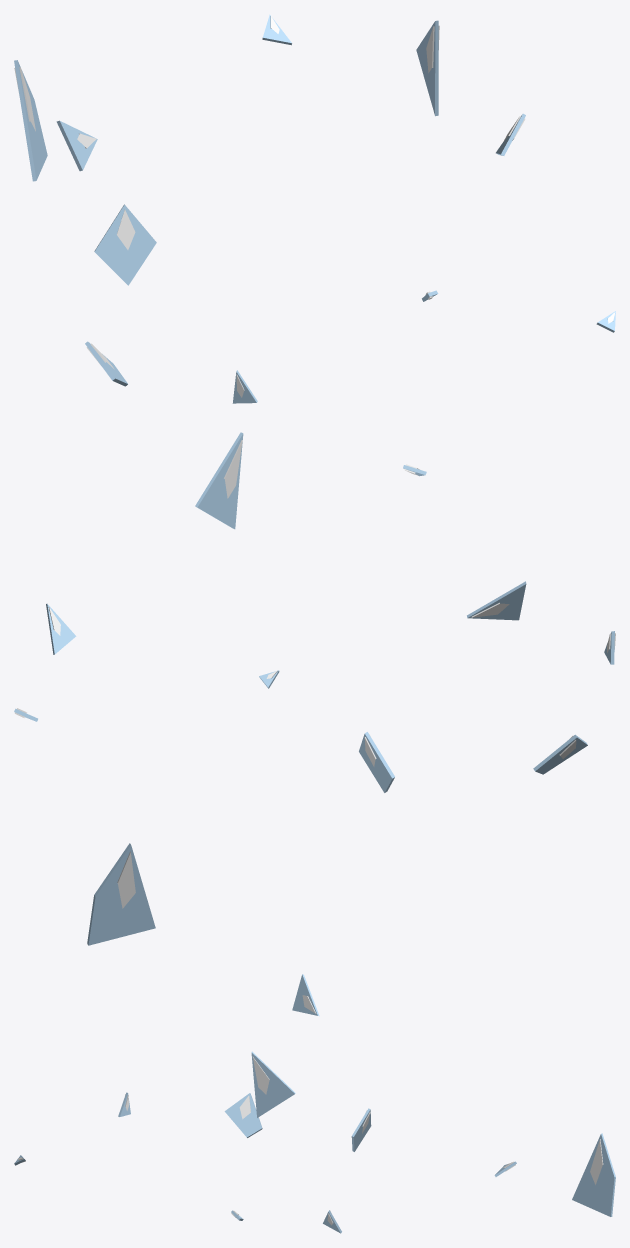
Rendered from glass_shards.gltf.
The picture shows the model from 3 angles, top to bottom: view 1: azimuth 30°, elevation 25°; view 2: azimuth 150°, elevation 25°; view 3: azimuth 270°, elevation 25°; orthographic projection. The views are drawn at different scales.
Visible parts, largest first — view 1: shard_5_pane, shard_8_pane, shard_1_pane, shard_10_pane; view 2: shard_8_pane, shard_1_pane, shard_10_pane, shard_5_pane; view 3: shard_8_pane, shard_1_pane, shard_2_pane, shard_10_pane, shard_5_pane.
Boxes of the visible parts, box(x1,y1,x2,y2) form: shard_5_pane: box(94, 204, 156, 285); shard_8_pane: box(14, 60, 47, 181); shard_1_pane: box(416, 20, 438, 116); shard_10_pane: box(56, 120, 97, 171); shard_8_pane: box(87, 843, 155, 945); shard_1_pane: box(195, 432, 243, 529); shard_10_pane: box(467, 581, 526, 620); shard_5_pane: box(359, 732, 394, 792); shard_8_pane: box(572, 1133, 615, 1216); shard_1_pane: box(251, 1051, 295, 1117); shard_2_pane: box(224, 1093, 262, 1137); shard_10_pane: box(292, 974, 319, 1016); shard_5_pane: box(351, 1108, 371, 1151).
Size of the model in its own units: 0.7635 by 0.4519 by 1.22.
2 materials, 2 textured.
